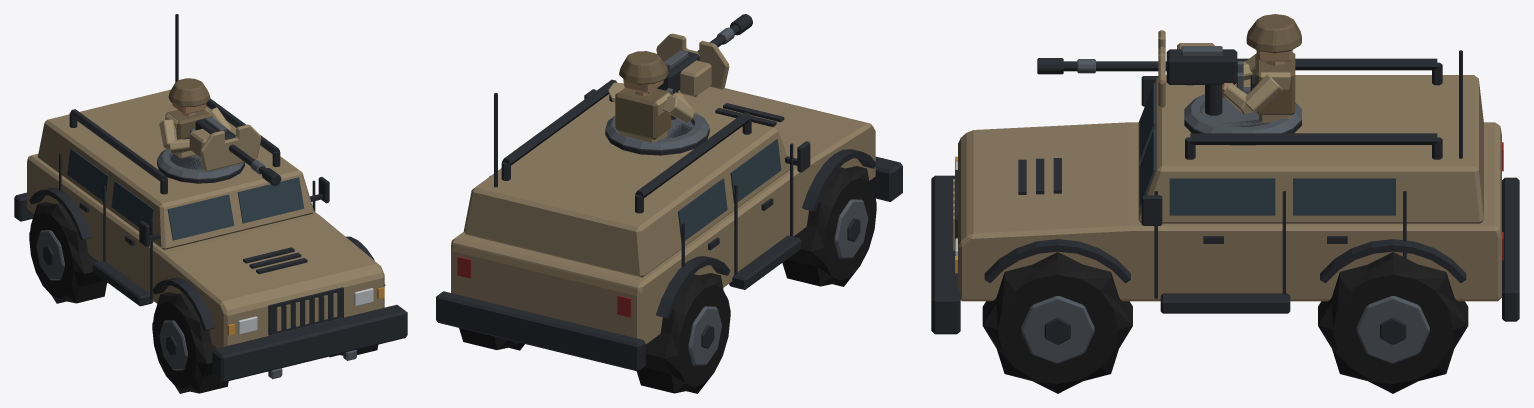
Rendered from patrulla-ametralladora.glb.
3 views of the same model, side by side, from view 1: azimuth 30°, elevation 25°; view 2: azimuth 150°, elevation 25°; view 3: azimuth 270°, elevation 25° (orthographic). The views are drawn at different scales.
Visible parts, largest first — view 1: casco, wheel_LB, wheel_LF, turret_yaw, gun_pitch; view 2: casco, wheel_LB, wheel_LF, turret_yaw, gun_pitch, wheel_RB; view 3: casco, wheel_RF, wheel_RB, turret_yaw, gun_pitch.
Boxes of the visible parts, x1,y1,x2,y2 form: casco: [14, 14, 407, 382]; wheel_LB: [29, 202, 107, 303]; wheel_LF: [152, 292, 228, 393]; turret_yaw: [157, 78, 244, 183]; gun_pitch: [189, 117, 281, 185]; casco: [436, 79, 902, 371]; wheel_LB: [636, 273, 730, 393]; wheel_LF: [782, 166, 876, 286]; turret_yaw: [605, 51, 709, 155]; gun_pitch: [656, 14, 752, 96]; wheel_RB: [459, 328, 524, 350]; casco: [931, 50, 1519, 334]; wheel_RF: [982, 252, 1132, 393]; wheel_RB: [1318, 252, 1468, 393]; turret_yaw: [1184, 14, 1301, 145]; gun_pitch: [1037, 30, 1243, 107].
Bounding box in the file's own units: 0.527 × 0.602 × 1.
